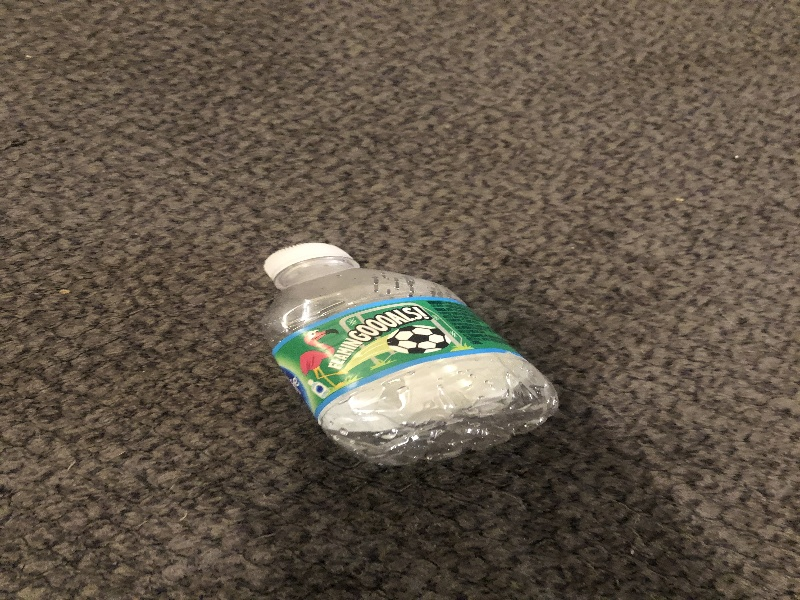plastic: (260, 238, 559, 471)
